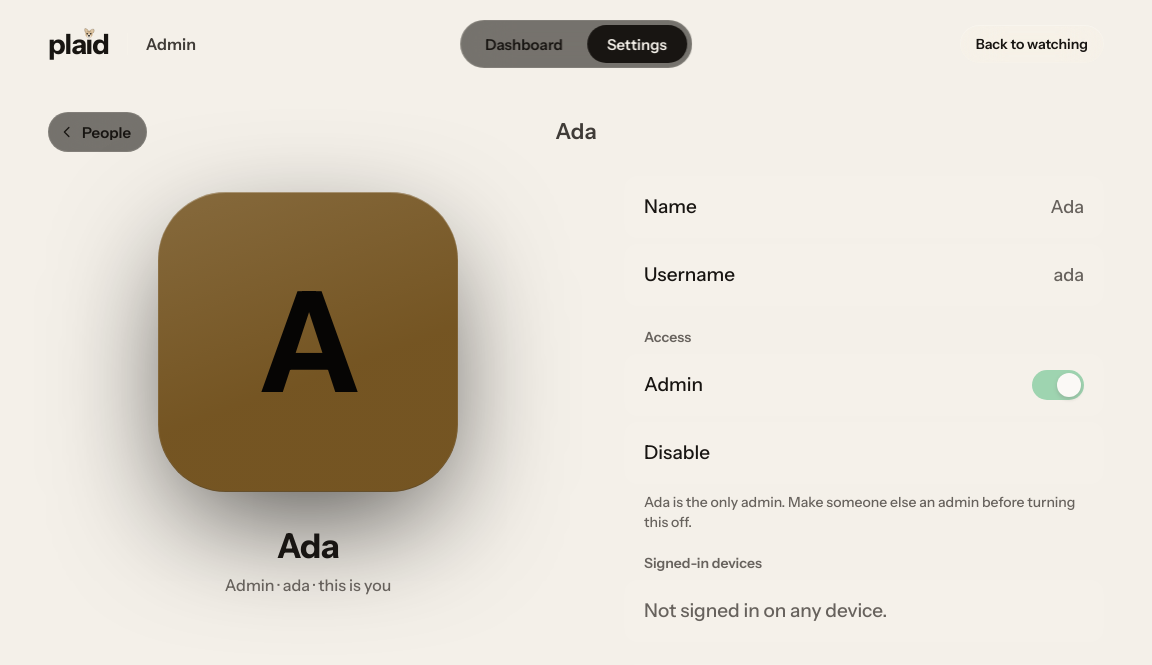
Test: people › explains the last admin
Step 1. Click the button "Disable" → (677, 452), box [624, 422, 1104, 484]
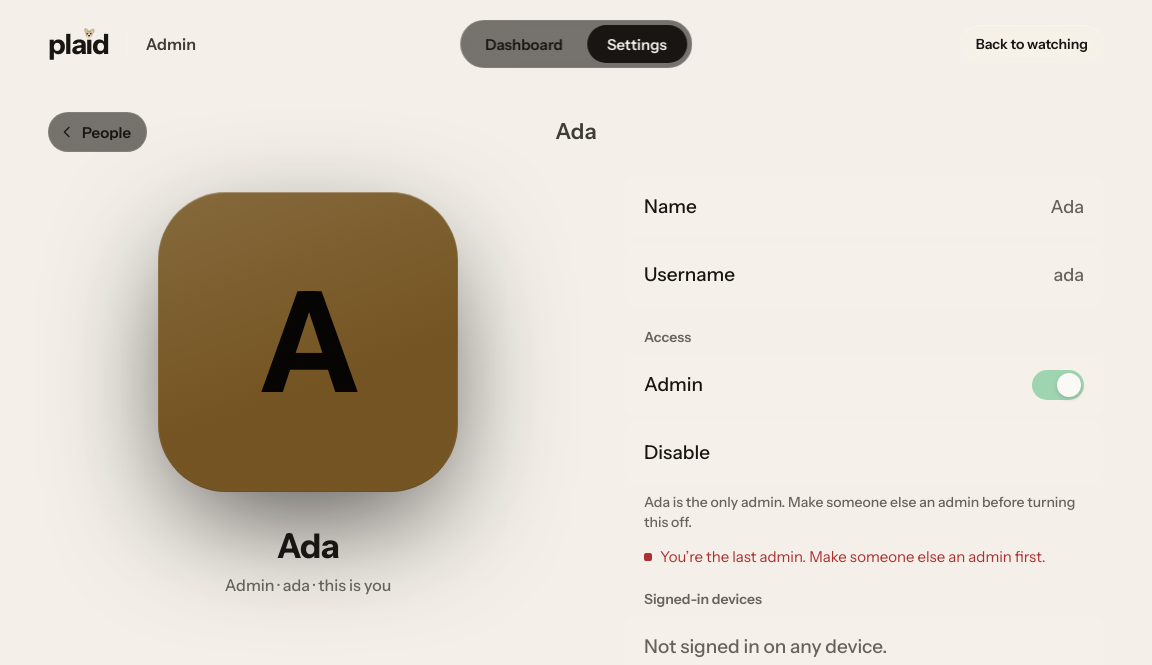
Result: the text "You’re the last admin. Make someone else an admin first." is shown at [644, 546, 1084, 568]
